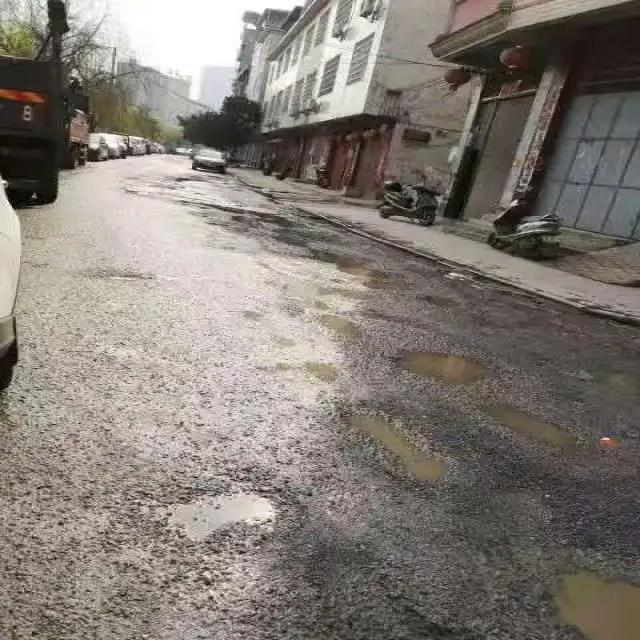Pothole: (528, 558, 639, 639), (343, 405, 452, 486), (146, 479, 286, 542), (481, 402, 587, 457), (386, 343, 506, 386)
